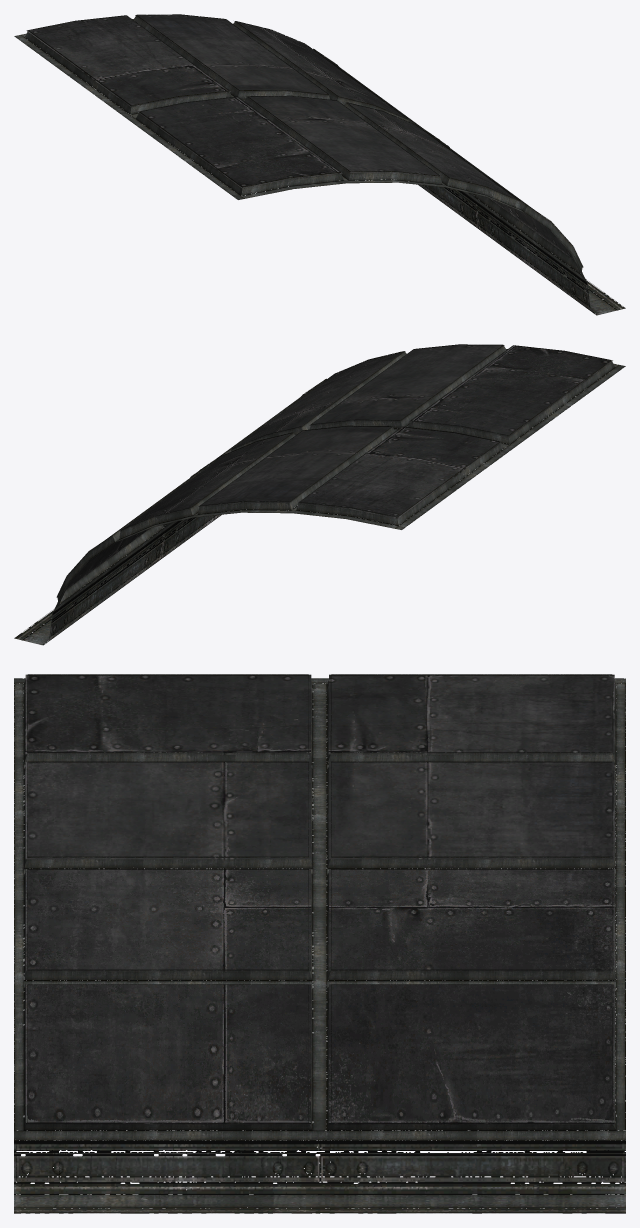
Rendered from tesla_modules1_ceiling_02.dae.
3 renders of one model, top to bottom at view 1: azimuth 30°, elevation 25°; view 2: azimuth 150°, elevation 25°; view 3: azimuth 270°, elevation 25°, orthographic. The views are drawn at different scales.
Parts seen in each view (by area): view 1: ceiling_02_sheets, ceiling_02_frame; view 2: ceiling_02_sheets, ceiling_02_frame; view 3: ceiling_02_sheets, ceiling_02_frame.
Part boxes in pixels (box(x1,y1,x2,y2)): ceiling_02_sheets: box(26, 14, 583, 267); ceiling_02_frame: box(14, 14, 625, 315); ceiling_02_sheets: box(56, 345, 612, 597); ceiling_02_frame: box(14, 344, 625, 645); ceiling_02_sheets: box(25, 674, 614, 1124); ceiling_02_frame: box(14, 674, 625, 1213).
Size of the model in its own units: 4 by 2.07 by 4.01.
